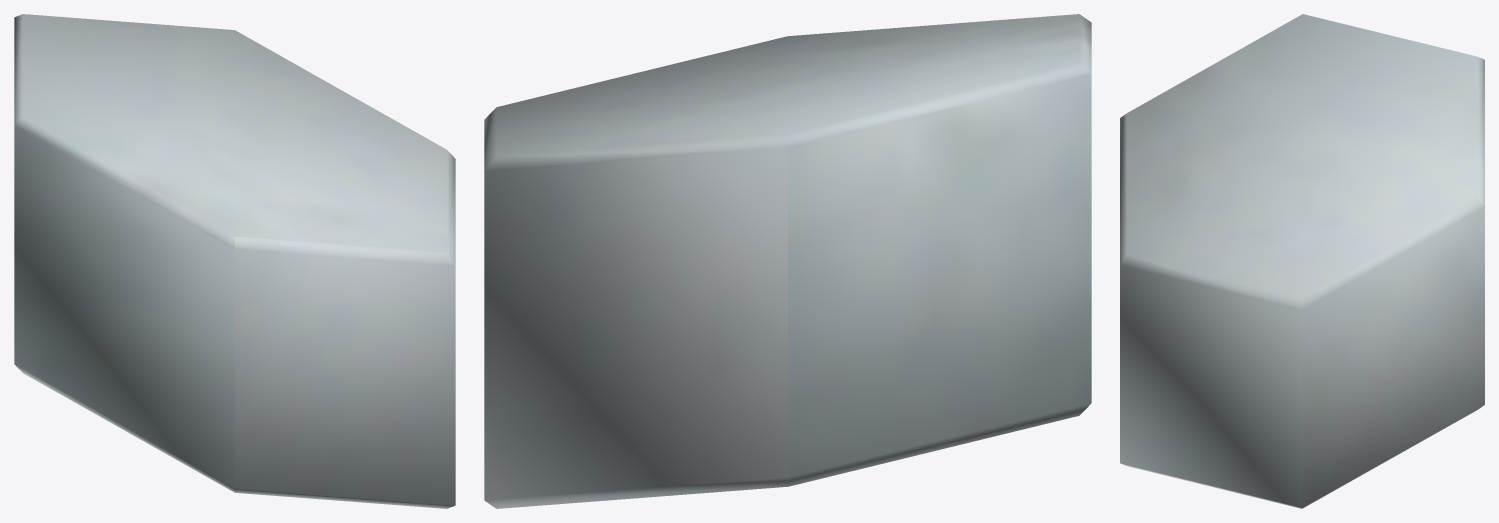
Rendered from P_RockHexic_Piece06.obj.
The picture shows the model from 3 angles, left to right: view 1: azimuth 30°, elevation 25°; view 2: azimuth 150°, elevation 25°; view 3: azimuth 270°, elevation 25°; orthographic projection. The views are drawn at different scales.
Size of the model in its own units: 3.6 by 3.06 by 3.12.
